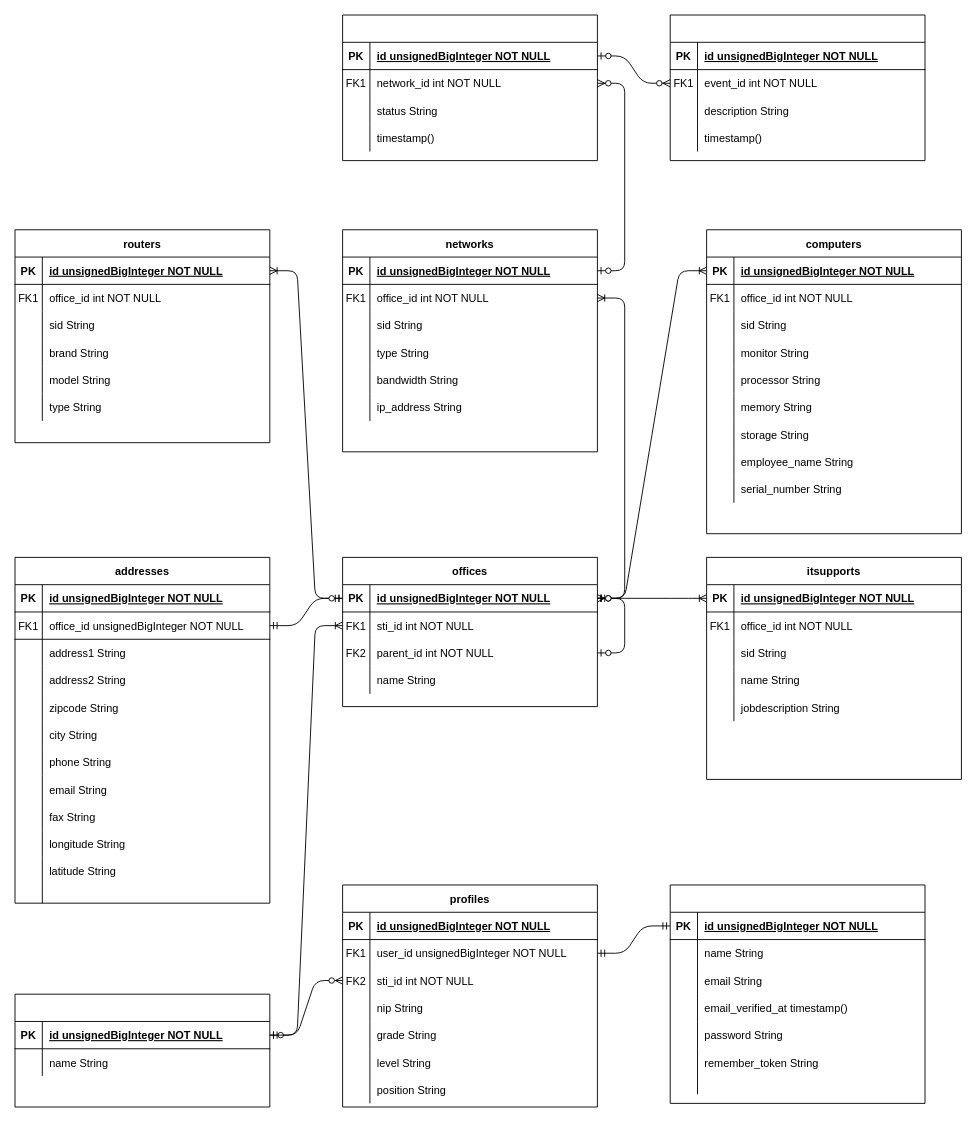
Image size: 976x1122. Some labels were removed from this diagram. The shapes that lost their labels are listed below. From the top down, each one's box as (x1, y1, x2, y2) in pixels, then its label:
(342, 14, 597, 161): events
(669, 14, 925, 161): actions
(669, 884, 925, 1103): users
(14, 993, 270, 1107): stis
